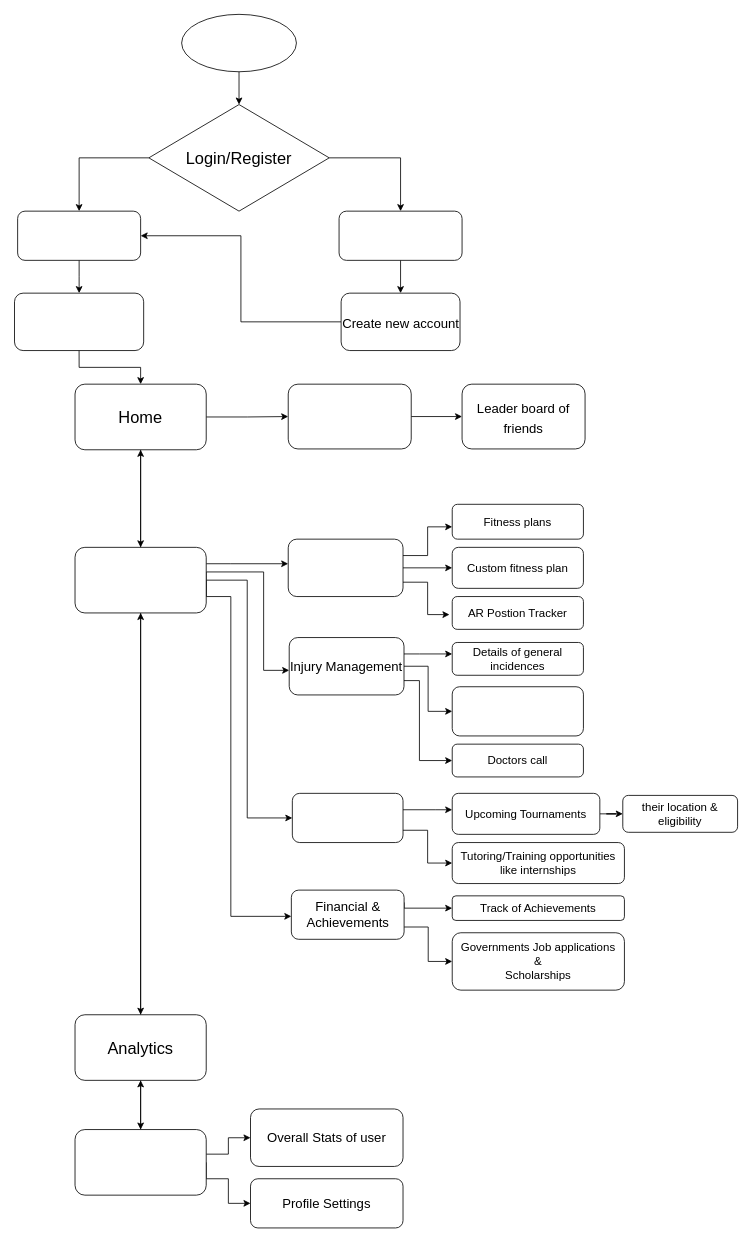
Some shapes in this 752 by 1242 pixel diagram are drawn without their labels. The shapes that lost their labels are listed below. From the top down, each one's centre as x and y in pixels, then its label:
At (x=238, y=43): "Start".
At (x=79, y=235): "Login".
At (x=400, y=235): "Register".
At (x=79, y=321): "Enter required details and login into app".
At (x=349, y=416): "Current working progress".
At (x=140, y=580): "Explore".
At (x=345, y=567): "Fitness Tracker".
At (x=517, y=711): "Details how to use guards for specific sports".
At (x=347, y=818): "Tournaments & Opportunities".
At (x=140, y=1162): "Profile".
